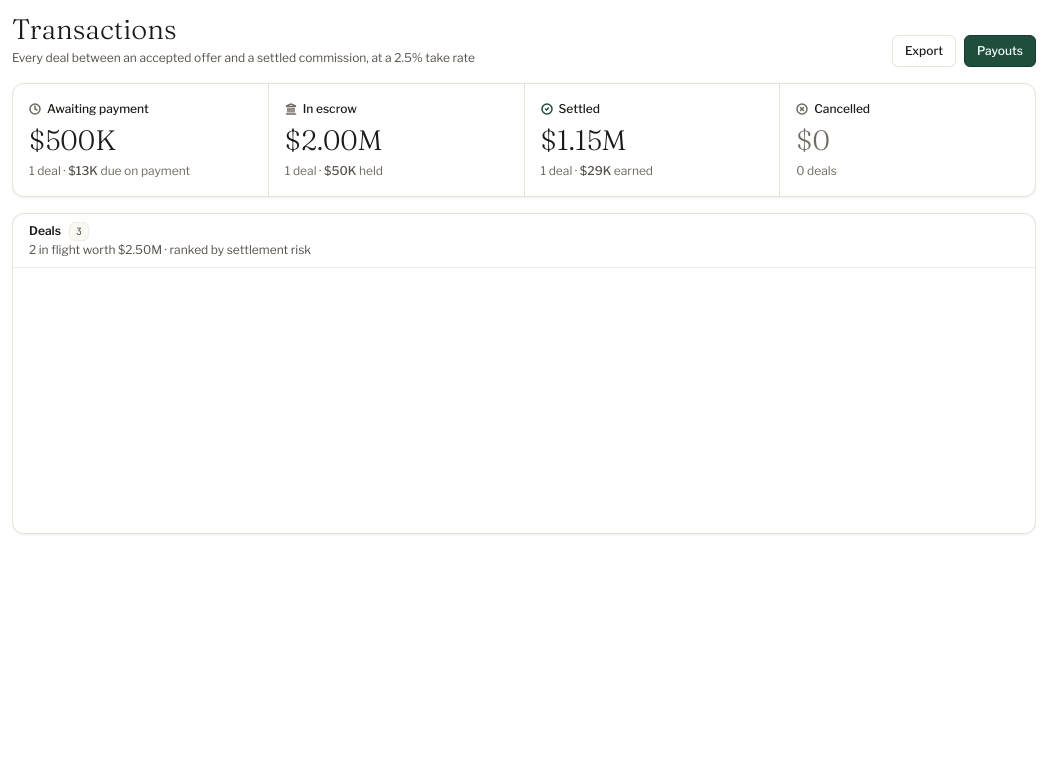
AdminTransactionsConsole · the stage band › shows every deal again from the ledger's own reset
Click the button "Settled $1.15M 1 deal · $29K earned": click(652, 140) [524,84,779,196]
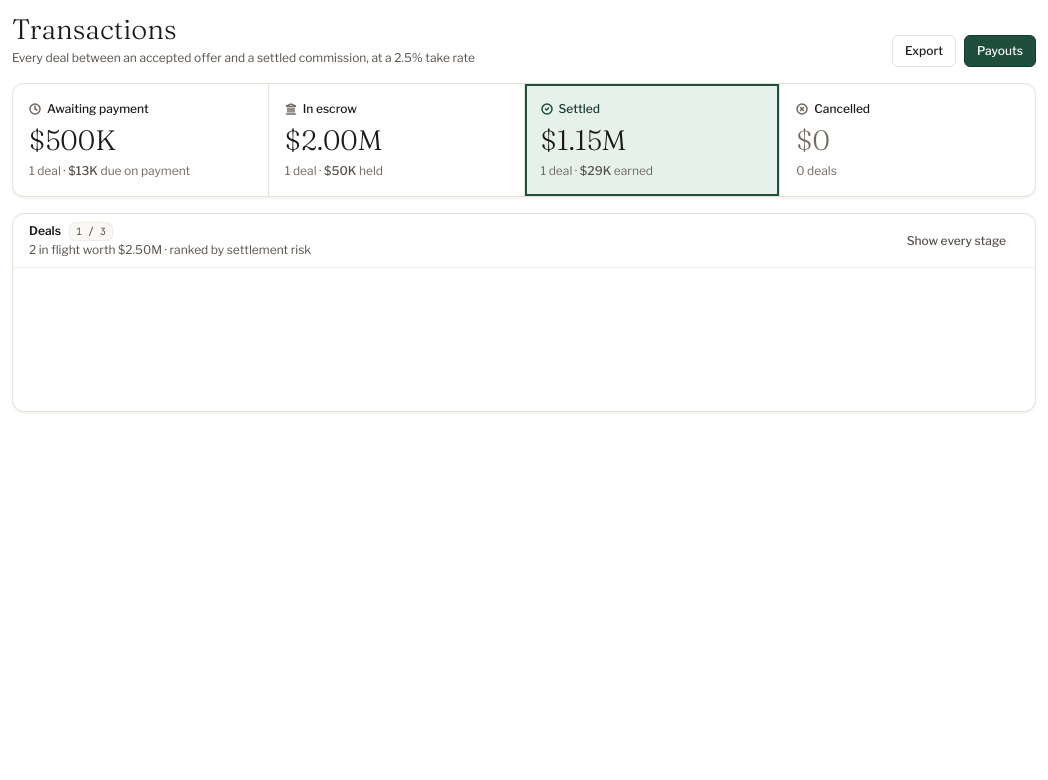
Click the button "Show every stage": click(956, 240) [894,224,1019,256]
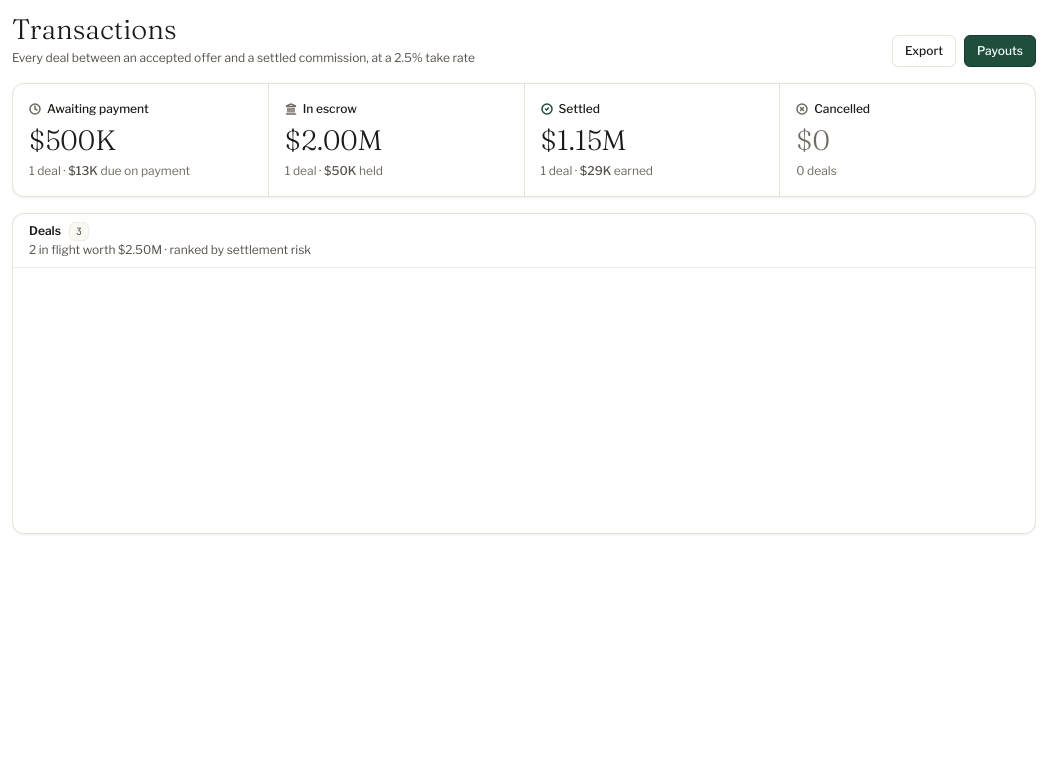
Now the button "Show every stage" is gone
